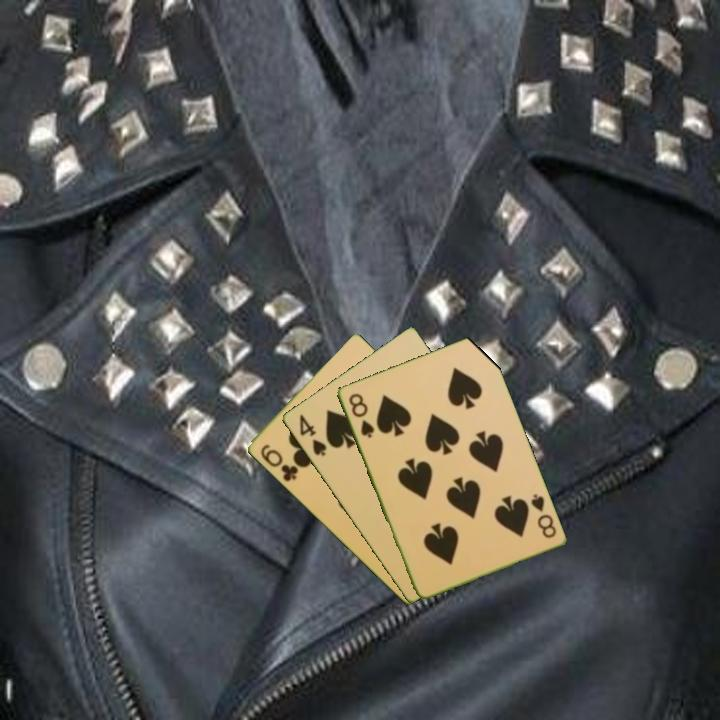4s: (295, 410, 329, 459)
6c: (257, 441, 301, 484)
8s: (345, 389, 377, 441), (527, 490, 559, 541)
